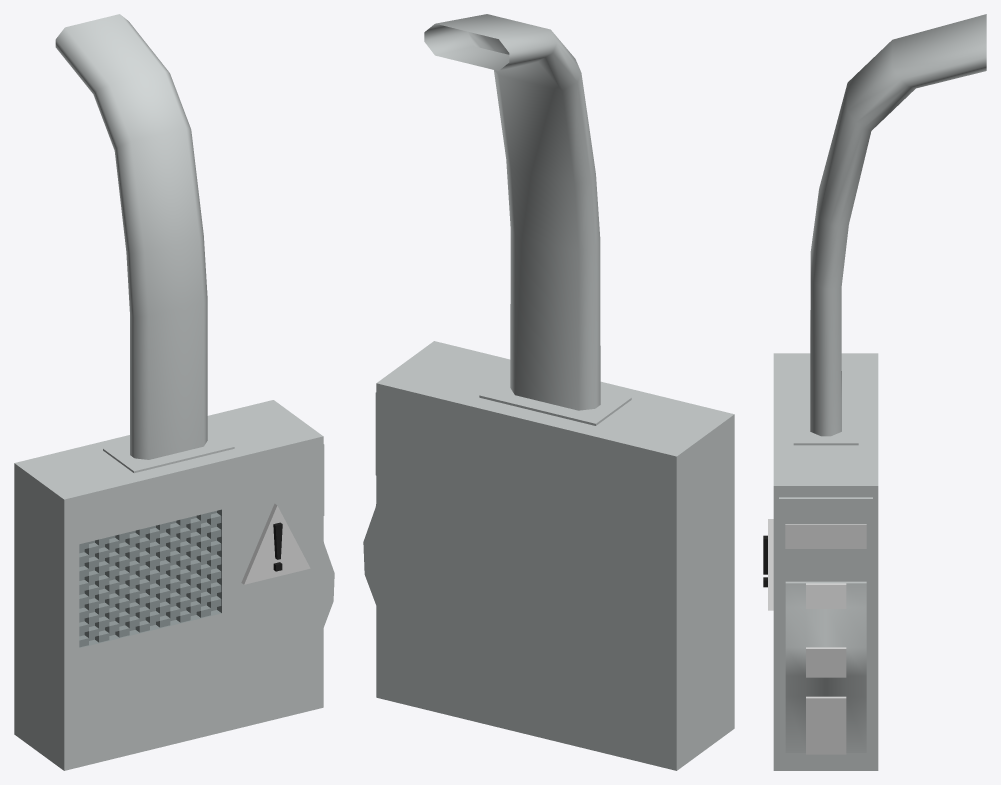
The model's file is Fuse-Box.fbx.
3 renders of one model, left to right at view 1: azimuth 30°, elevation 25°; view 2: azimuth 150°, elevation 25°; view 3: azimuth 270°, elevation 25°, orthographic. The views are drawn at different scales.
Visible parts, largest first — view 1: Fuse-Box; view 2: Fuse-Box; view 3: Fuse-Box.
Part boxes in pixels (box(x1,y1,x2,y2)): Fuse-Box: box(14, 14, 334, 770); Fuse-Box: box(363, 14, 734, 770); Fuse-Box: box(763, 14, 986, 770).
Bounding box in the file's own units: 1.62 × 3.56 × 1.07.
